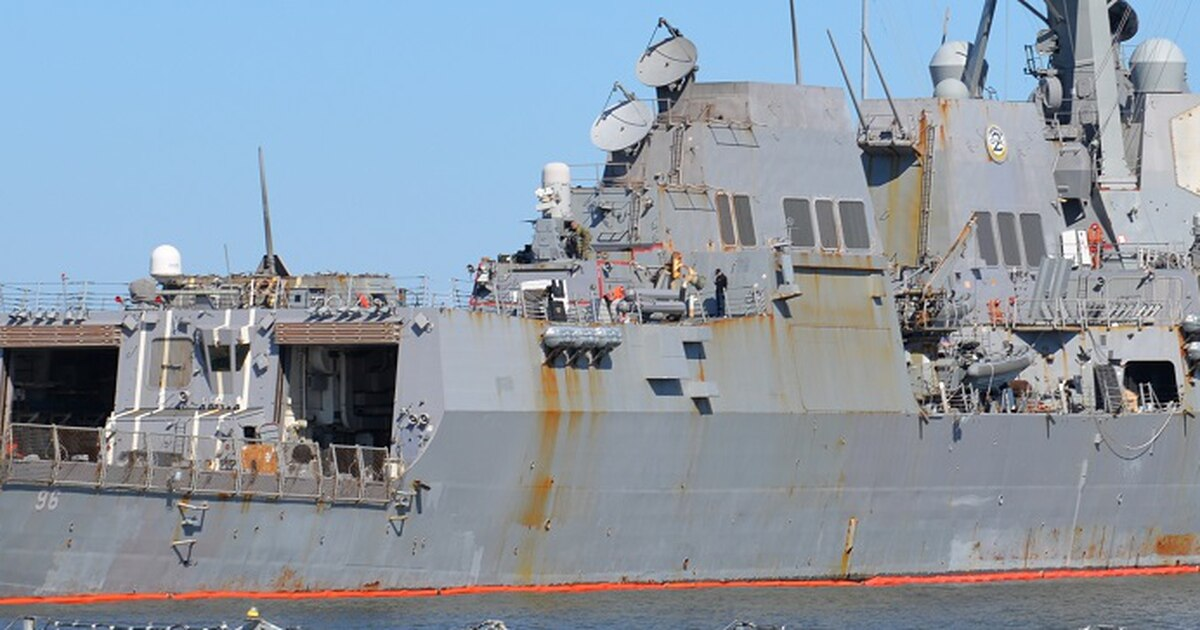rust: (705, 317, 894, 413), (512, 361, 602, 540), (911, 104, 947, 268)
